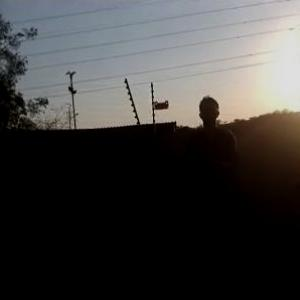follow: (182, 88, 244, 284)
